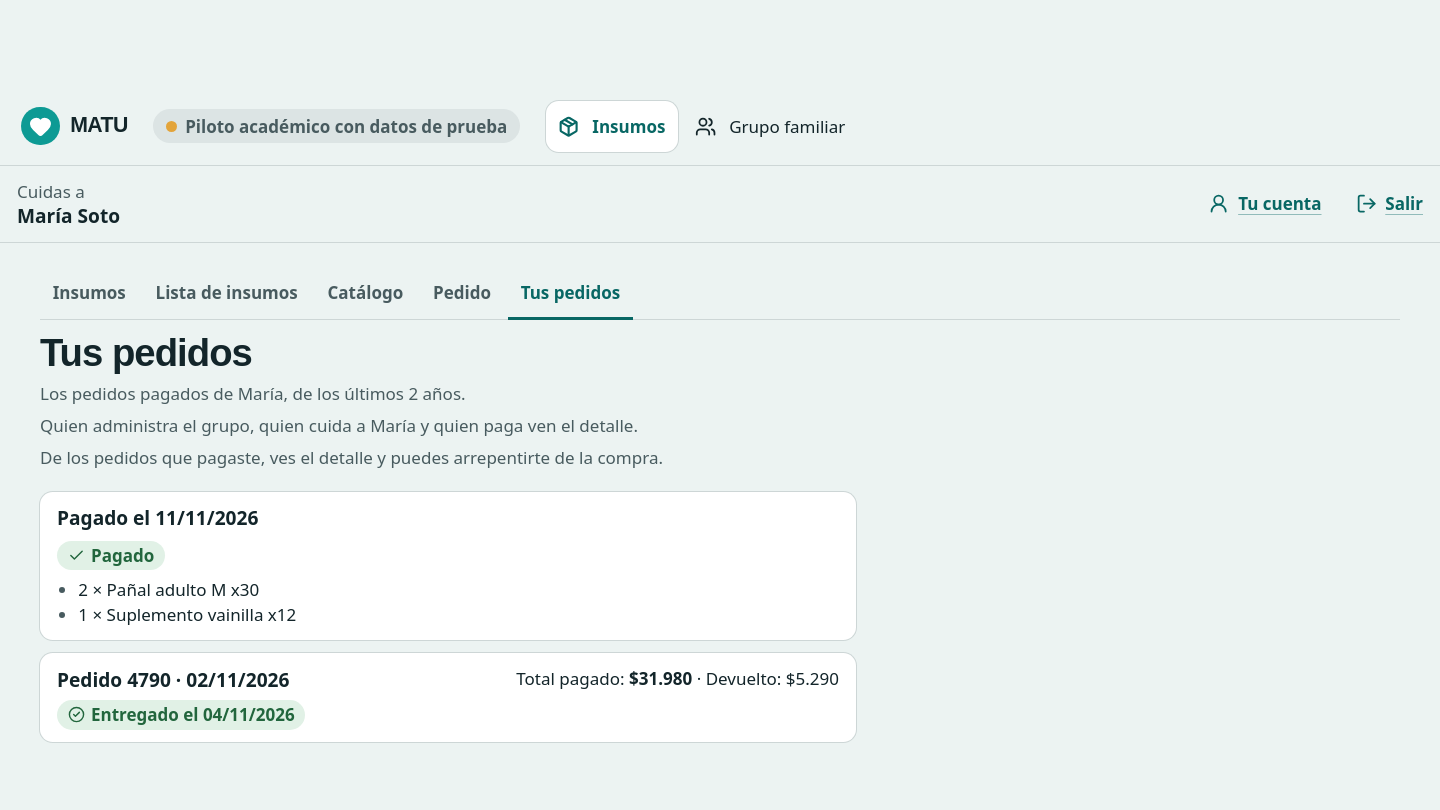
Test: MATU-116 (H1, C10): la guarda del detalle no mira el rol › si el servidor dice 404 (no lo pagó), el detalle dice «No encontramos este pedido.»
(page scrolled)
Step 1. Click the button "Pedido 4790" → (92, 680), box x1=40 y1=653 x2=856 y2=742
(page scrolled)
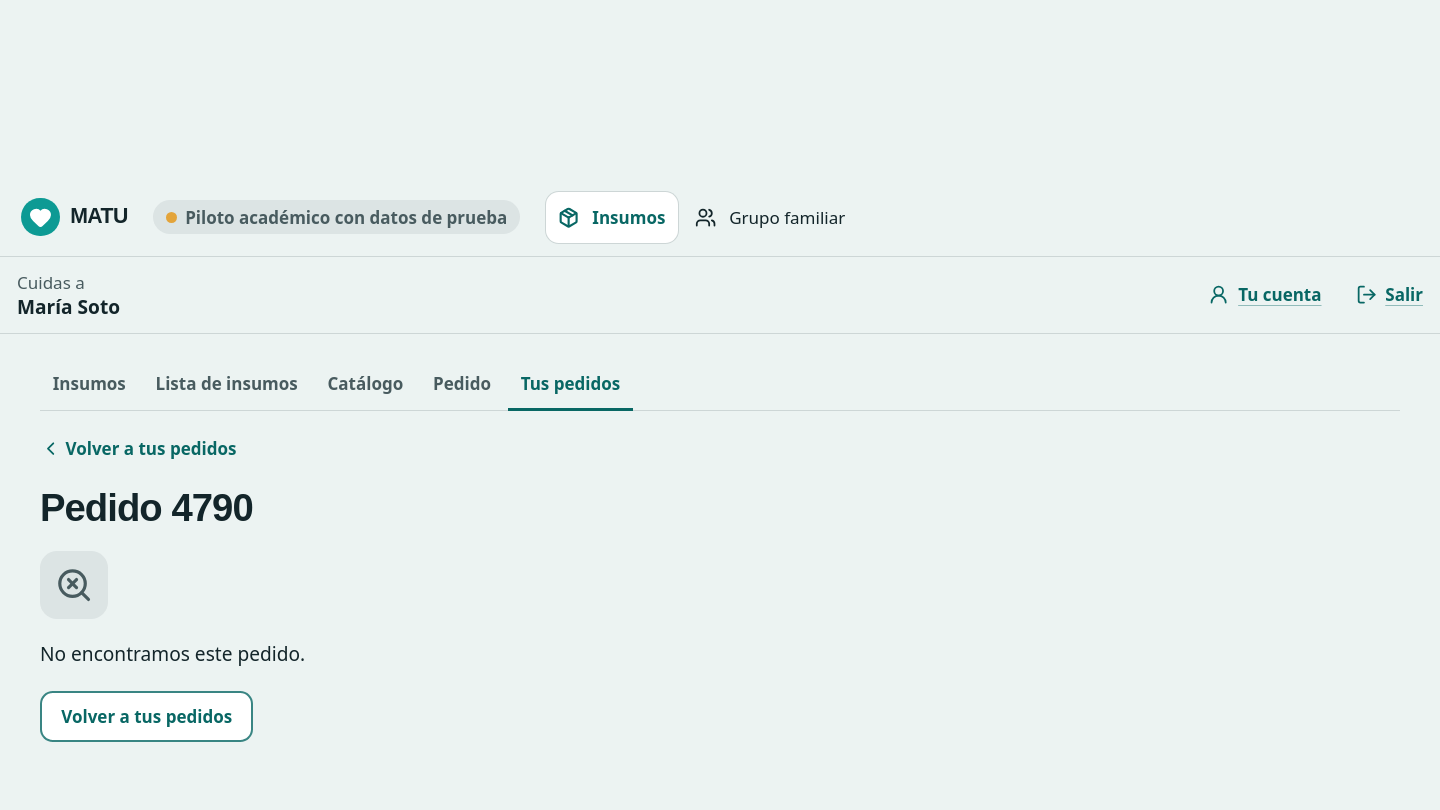
Now the text "No encontramos este pedido." is shown, box x1=40 y1=640 x2=305 y2=670
